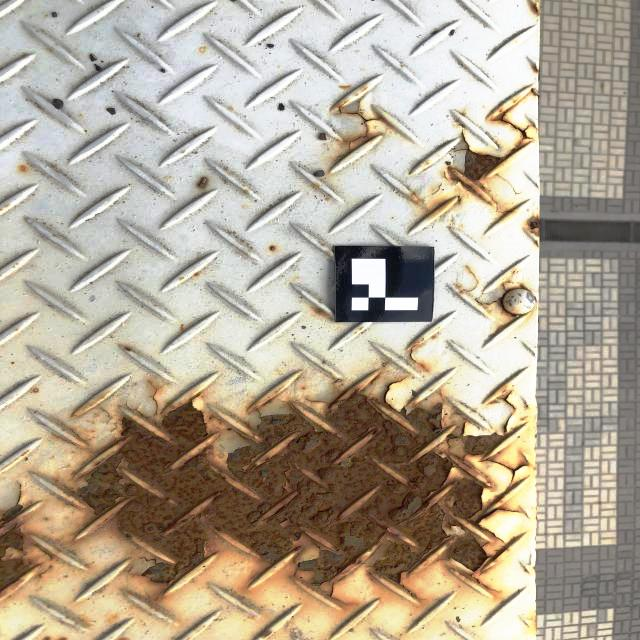Corrosion: (73, 384, 534, 604), (445, 122, 535, 206), (0, 506, 55, 596), (331, 80, 384, 150), (486, 84, 534, 122), (252, 622, 277, 640), (526, 216, 542, 235), (45, 636, 71, 640)
